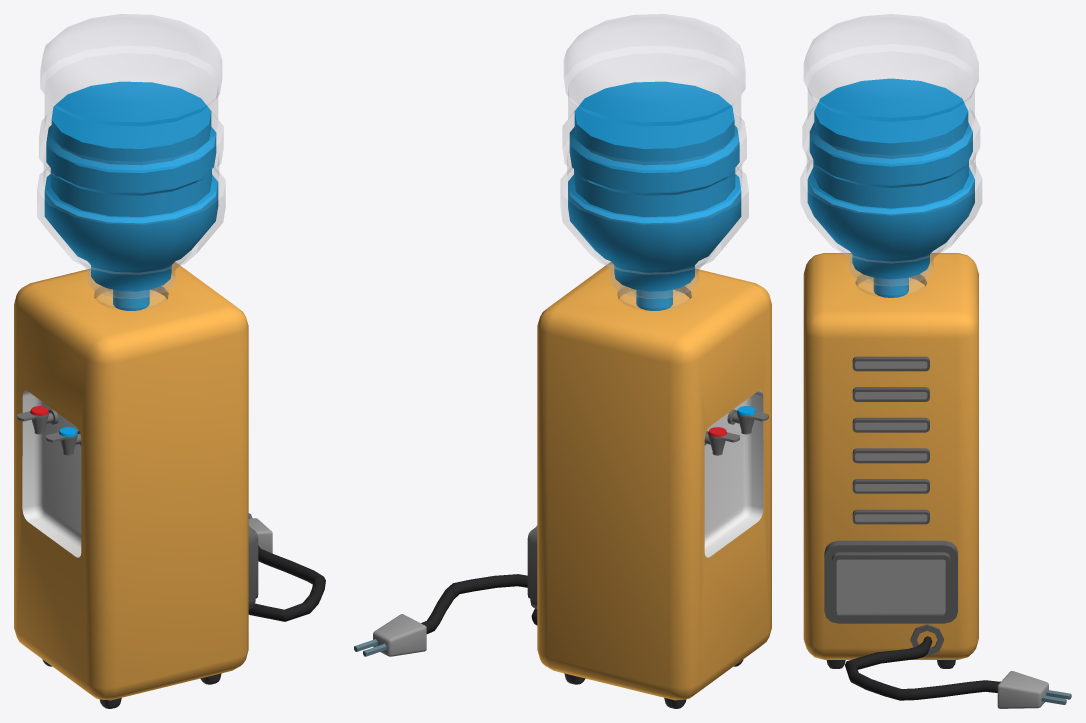
Rendered from Dispenser.fbx.
3 views of the same model, side by side, from view 1: azimuth 30°, elevation 25°; view 2: azimuth 150°, elevation 25°; view 3: azimuth 270°, elevation 25° (orthographic). The views are drawn at different scales.
Parts seen in each view (by area): view 1: Dispenser; view 2: Dispenser; view 3: Dispenser.
Boxes of the visible parts, bbox=[...] form: Dispenser: bbox=[14, 14, 325, 708]; Dispenser: bbox=[354, 14, 771, 708]; Dispenser: bbox=[800, 14, 1071, 708].
Bounding box in the file's own units: 0.4066 × 0.3241 × 0.7919.
